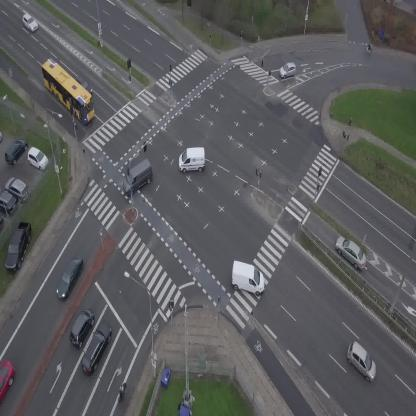bicycle: (116, 381, 128, 404), (362, 41, 375, 56)
bus: (33, 56, 104, 126)
car: (76, 320, 116, 378), (340, 339, 384, 383), (330, 232, 372, 273), (52, 254, 87, 302), (65, 305, 99, 349), (0, 361, 15, 402), (19, 12, 41, 34), (75, 75, 96, 96), (278, 61, 298, 79)
lorry: (116, 158, 159, 197), (226, 260, 269, 297), (178, 147, 205, 173)
